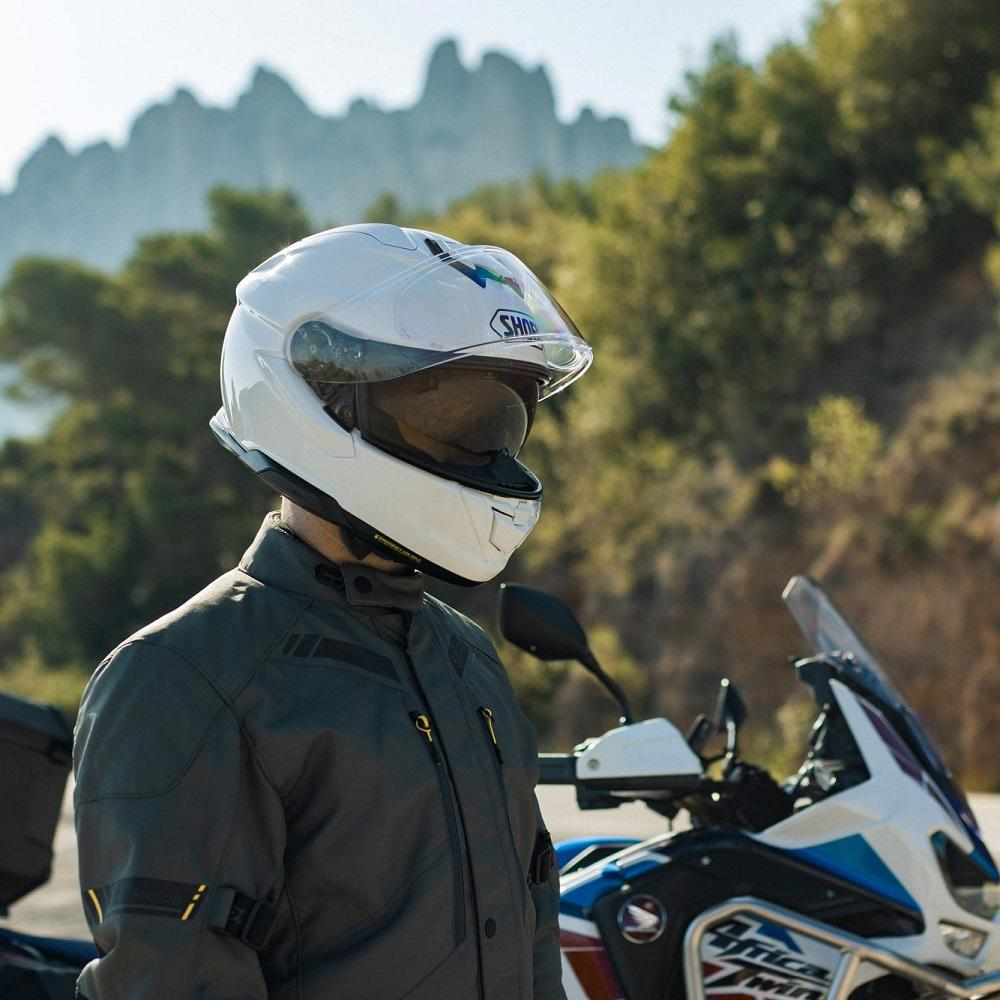Helmet: (210, 224, 591, 585)
